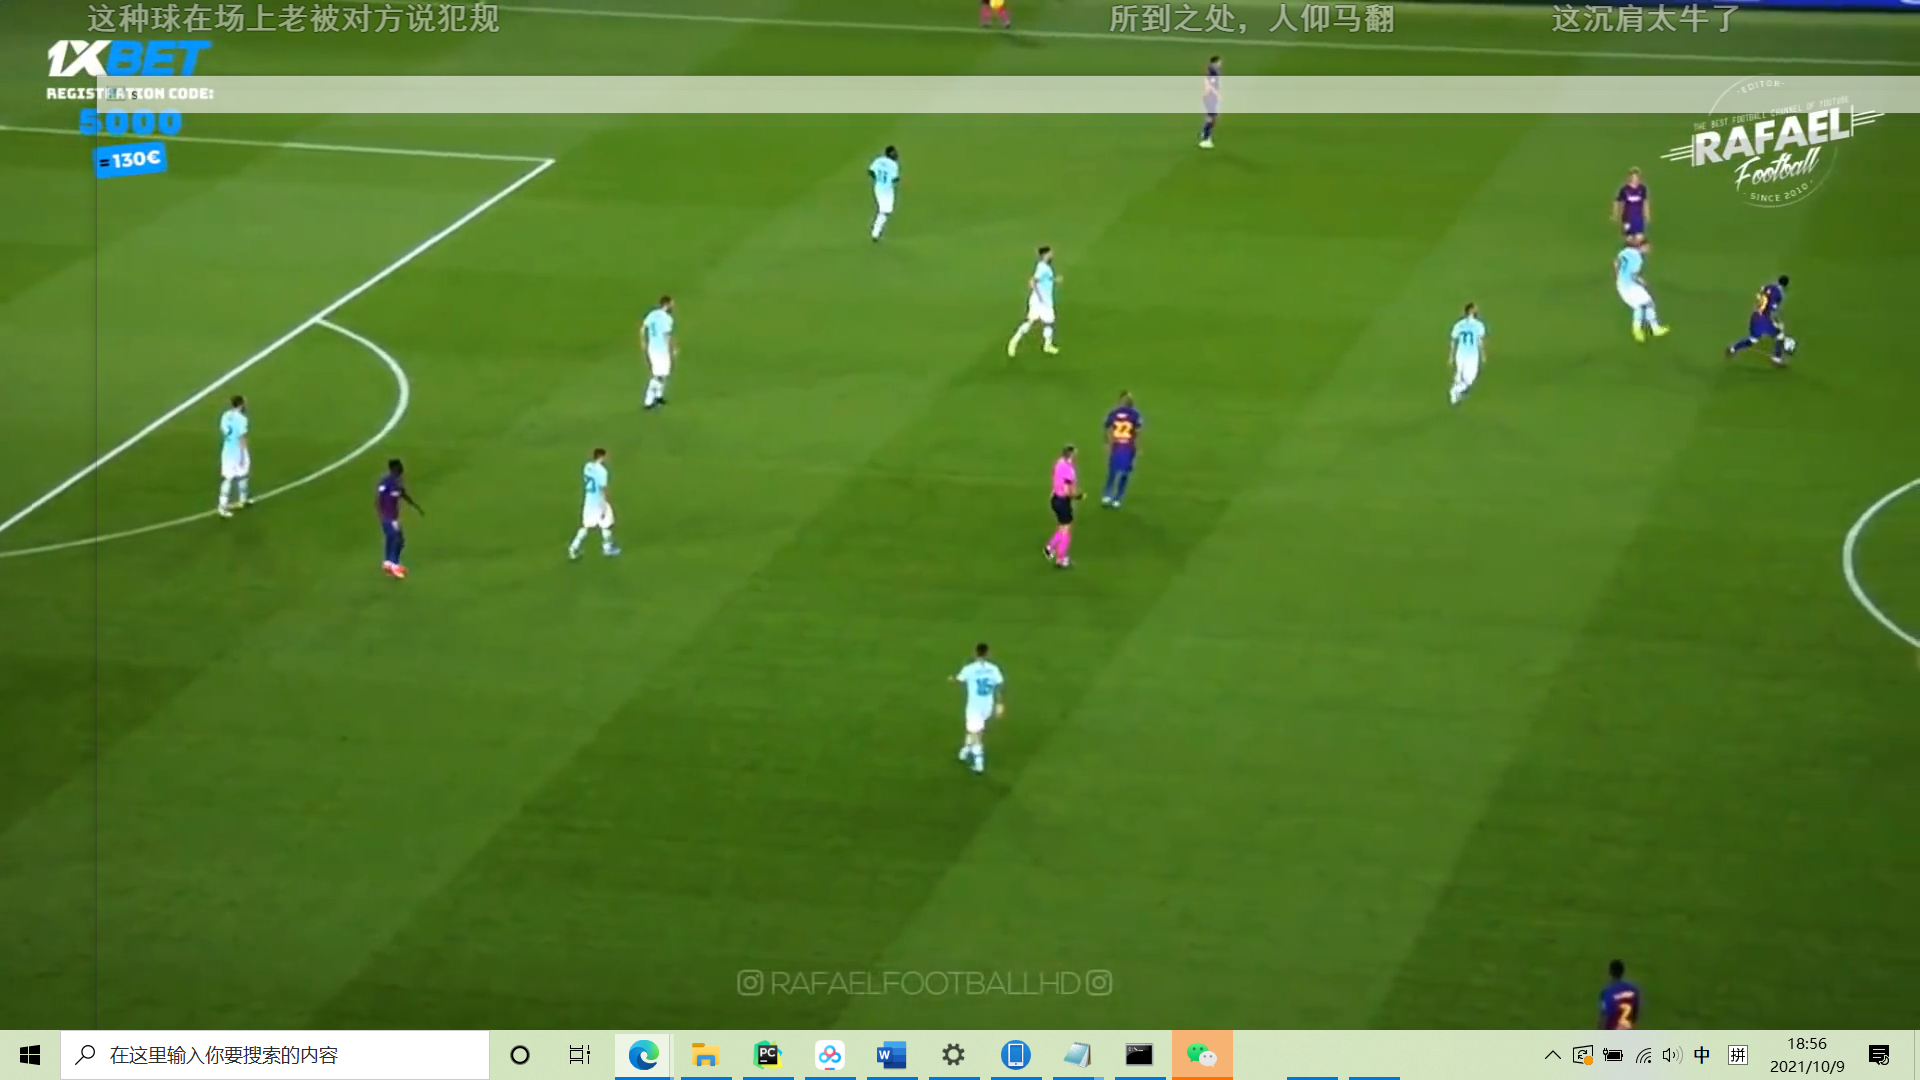ft: (1780, 335, 1799, 355)
